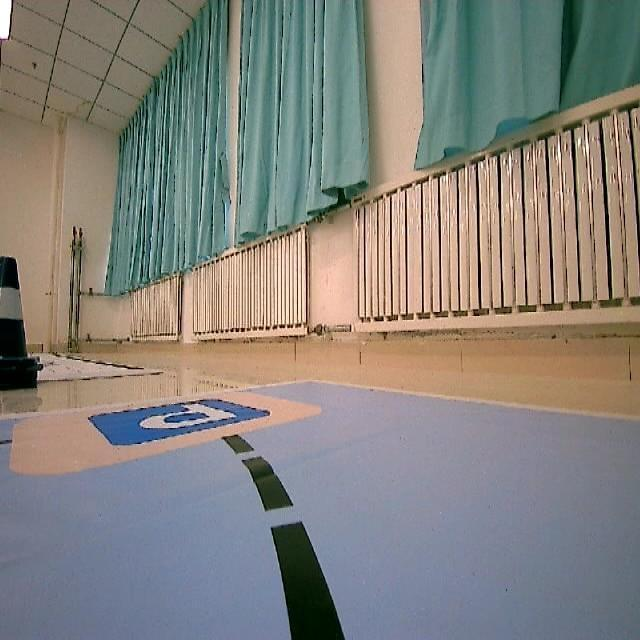obstacle: (0, 249, 40, 403)
